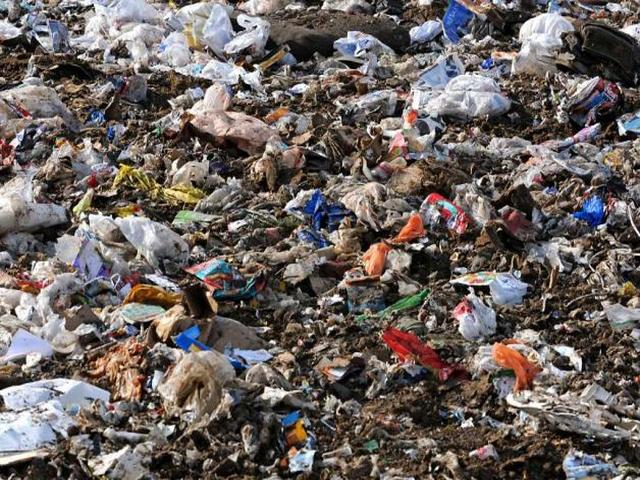garbage: (20, 20, 640, 458)
